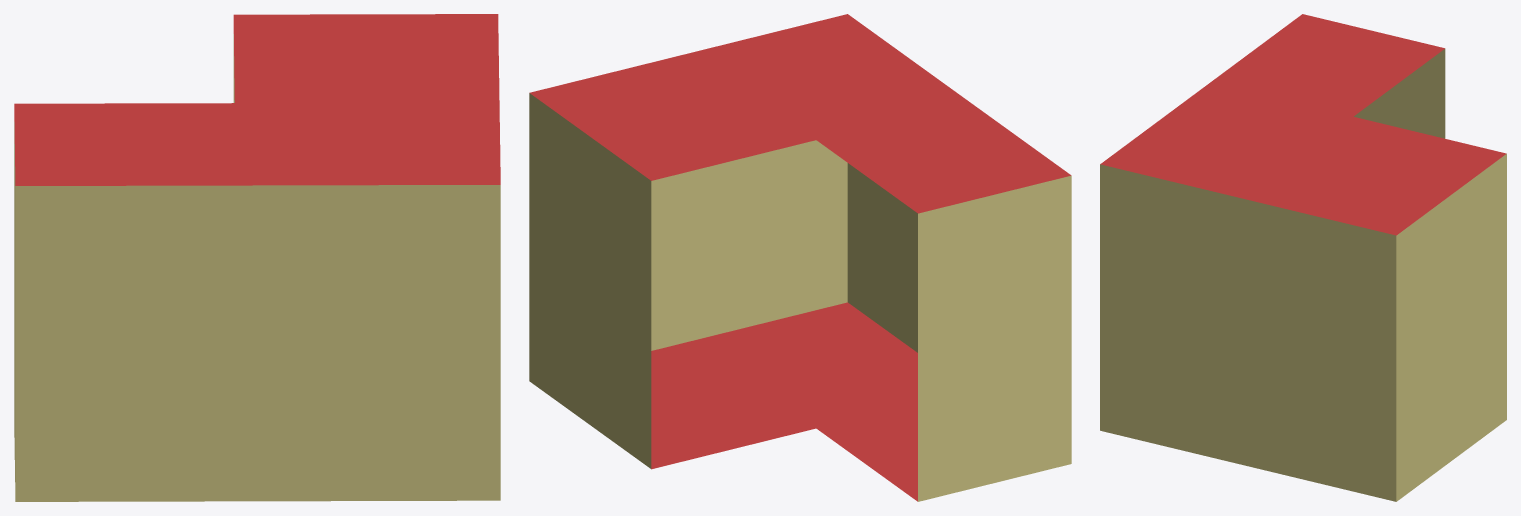
3 views of the same model, side by side, from view 1: azimuth 30°, elevation 25°; view 2: azimuth 150°, elevation 25°; view 3: azimuth 270°, elevation 25° (orthographic). The views are drawn at different scales.
Bounding box in the file's own units: 9.77 × 7.58 × 5.48.
